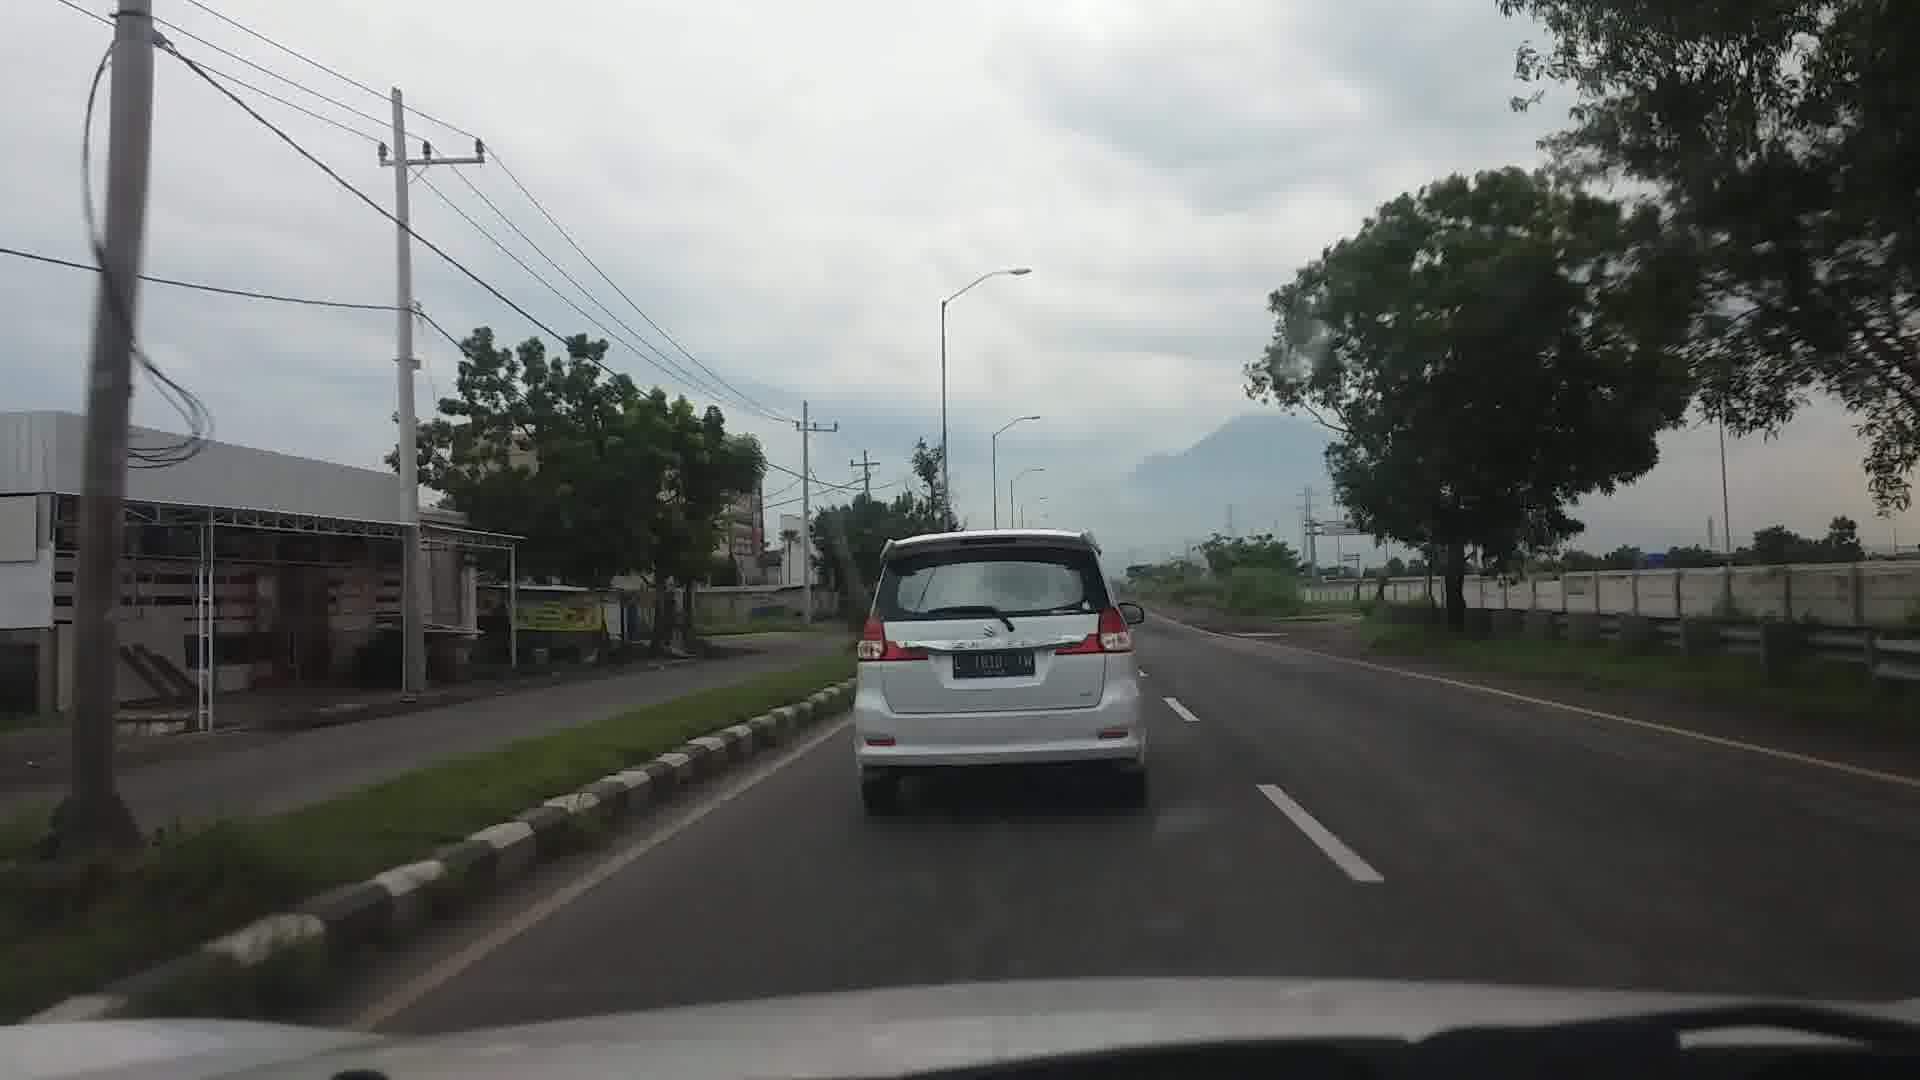plate_positive: (953, 651, 1036, 678)
